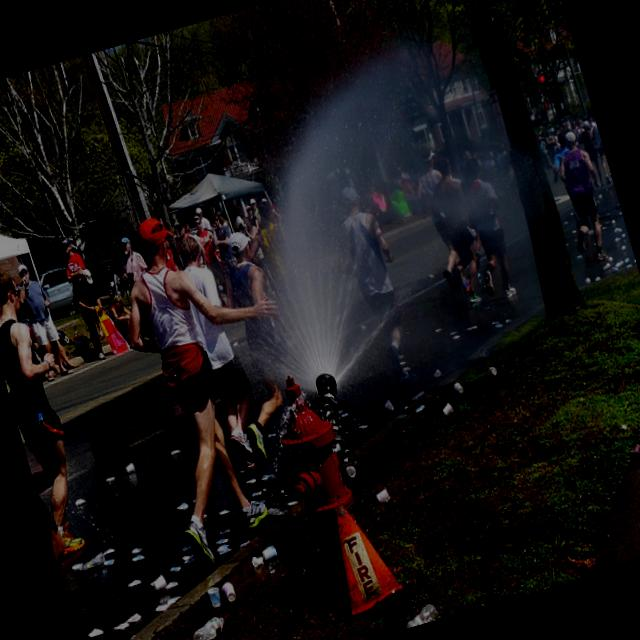Vehicle: (37, 264, 83, 323), (472, 137, 519, 181), (540, 98, 562, 124), (526, 107, 538, 121), (190, 226, 200, 234)
